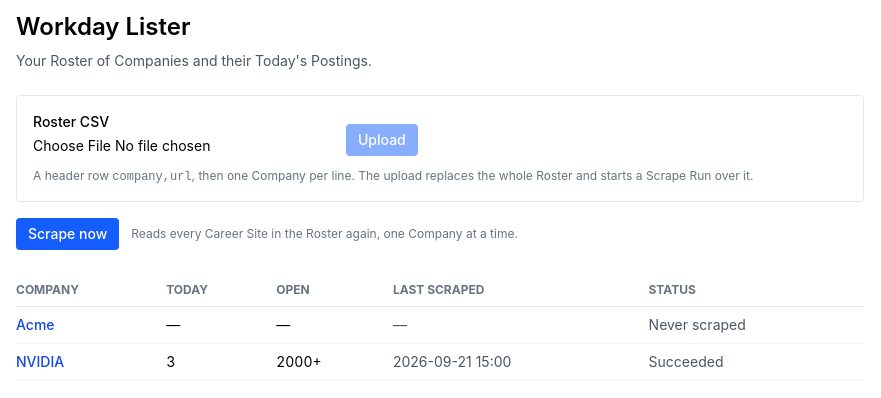
it: Scrape now starts a run and shows its progress, with every Company queued
This screenshot has width=881, height=398.
Expected: the text "Never scraped" is shown, [649,306,864,344]
Step 1. Click the button "Scrape now" → (68, 234), box [16,218,119,250]
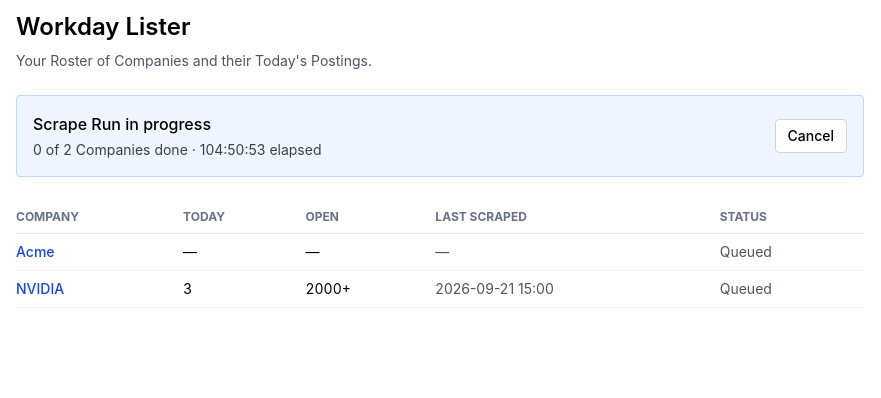
Expected: the text "0 of 2 Companies done · 104:50:53 elapsed" is shown, [33,141,322,158]
Expected: the button "Scrape now" is gone
Expected: the text labelled "Roster CSV" is gone
